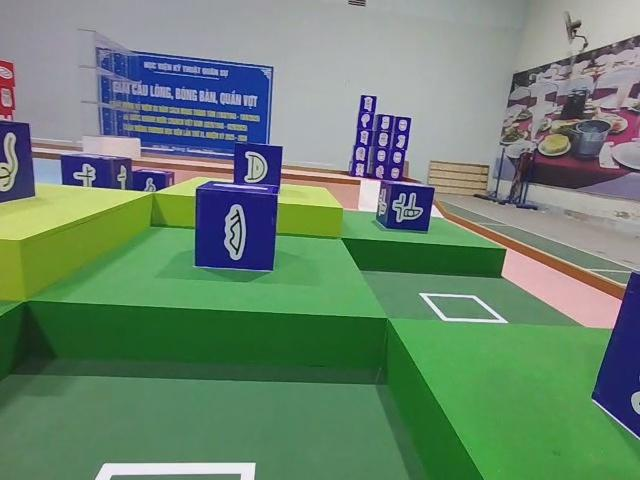R2 Real Blue: (193, 181, 279, 274), (378, 181, 437, 234), (0, 122, 33, 213), (58, 153, 130, 190), (234, 143, 285, 190)
